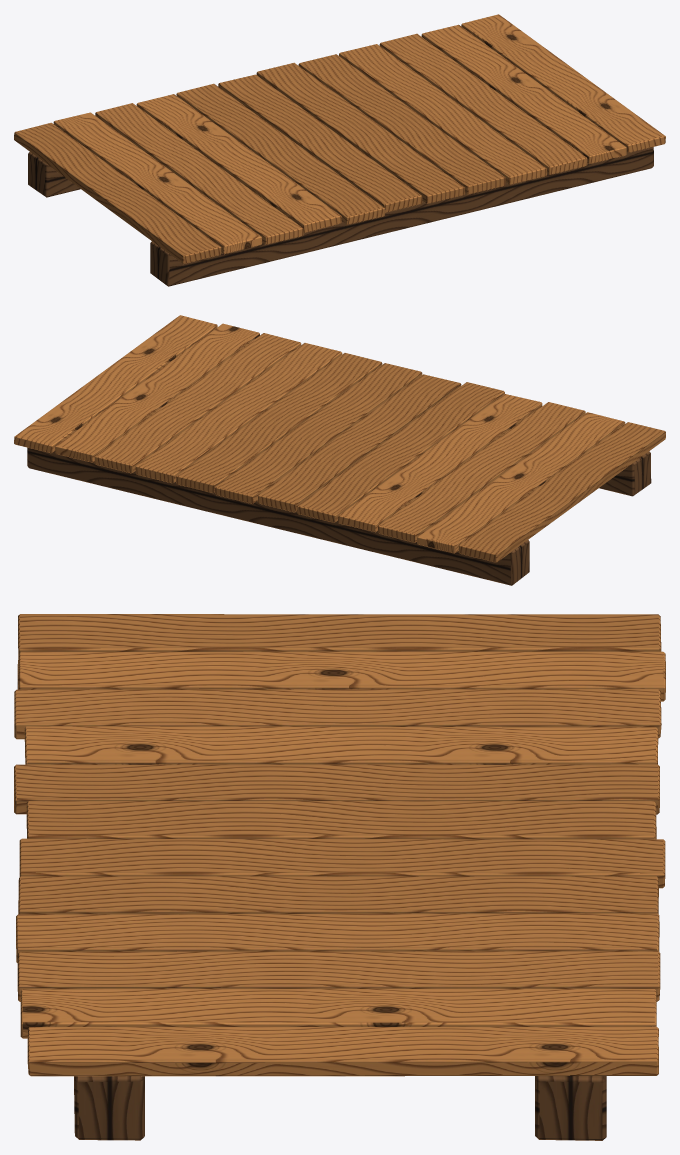
File: Deck_3m.glb
The picture shows the model from 3 angles, top to bottom: view 1: azimuth 30°, elevation 25°; view 2: azimuth 150°, elevation 25°; view 3: azimuth 270°, elevation 25°; orthographic projection. The views are drawn at different scales.
Visible parts, largest first — view 1: Deck_3m; view 2: Deck_3m; view 3: Deck_3m.
Boxes of the visible parts, <box> form: Deck_3m: <box>14,14,665,286</box>; Deck_3m: <box>14,315,665,585</box>; Deck_3m: <box>14,614,665,1140</box>.
Bounding box in the file's own units: 3 × 0.2538 × 1.84.
Materials: 2 (2 with a texture image).
